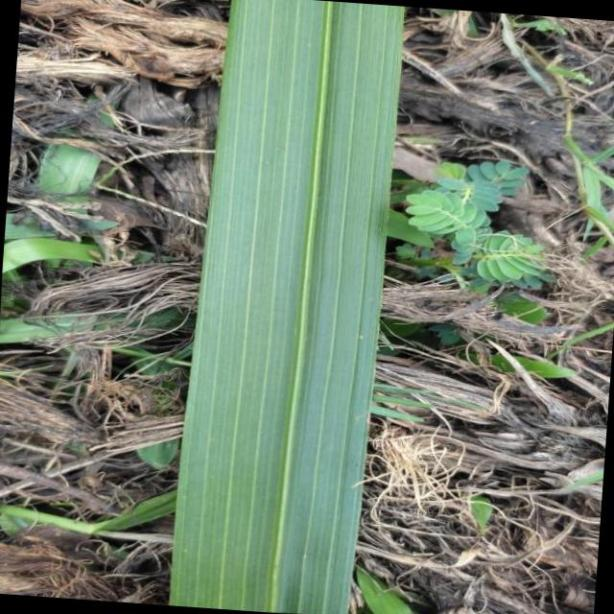Healthy: (163, 0, 405, 614)
